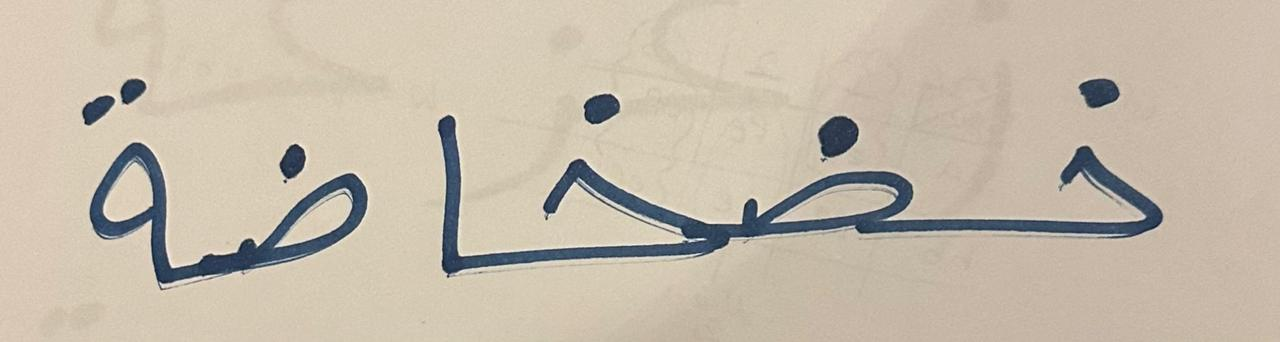alef: (395, 51, 489, 304)
dad: (729, 22, 947, 303), (198, 82, 390, 307)
lam: (951, 40, 1241, 306), (494, 51, 726, 323)
thal: (39, 42, 195, 322)
